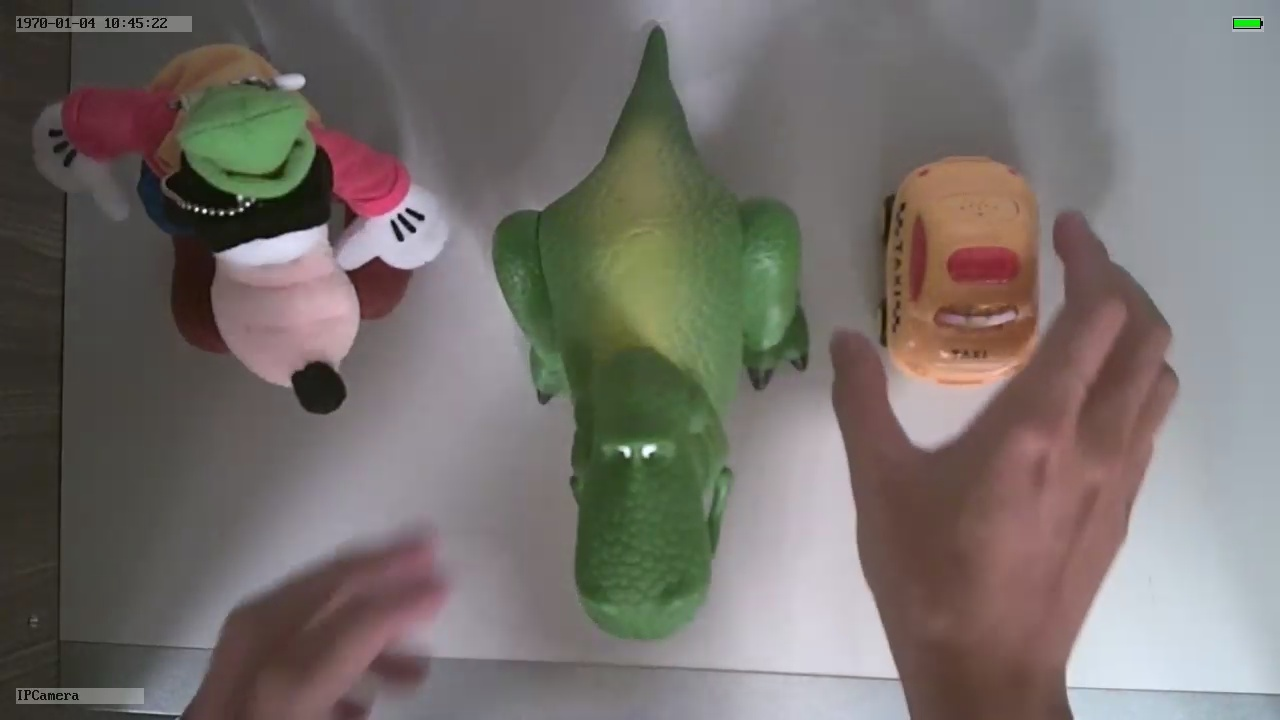goofy: (30, 41, 449, 419)
rex: (487, 106, 810, 642)
